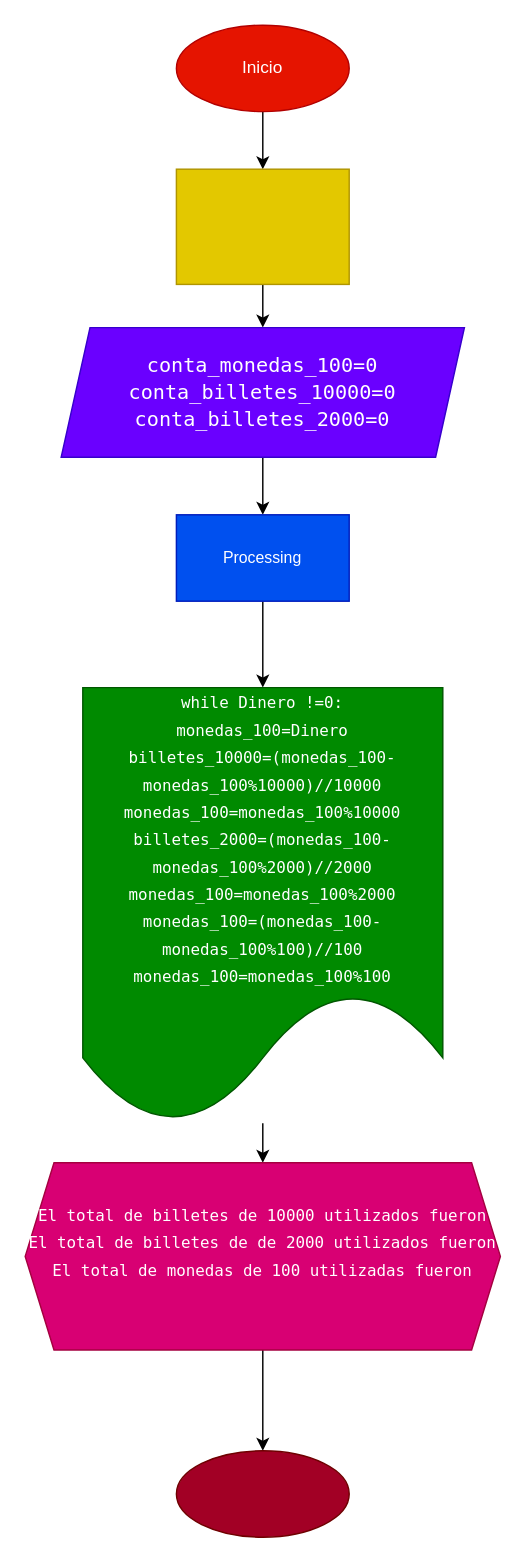
Image size: 526x1562. Some labels were removed from this diagram. The shapes that lost their labels are listed below. From the top down, each one's centre as x and y in pixels, then its label:
the point at 262,226: Digite el dinero para retirar:
the point at 262,1493: Fin
